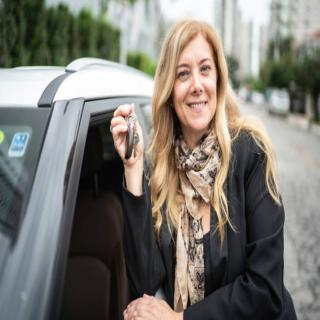Normal_vehicle: (0, 61, 156, 320)
